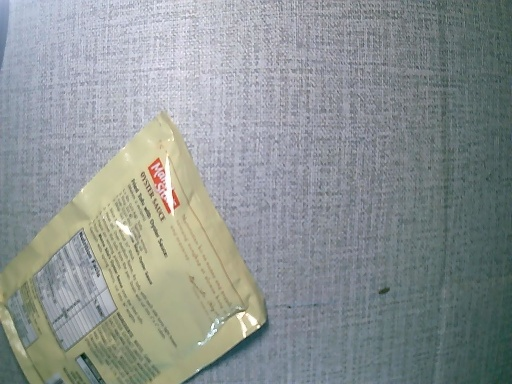plastic: (1, 111, 268, 384)
